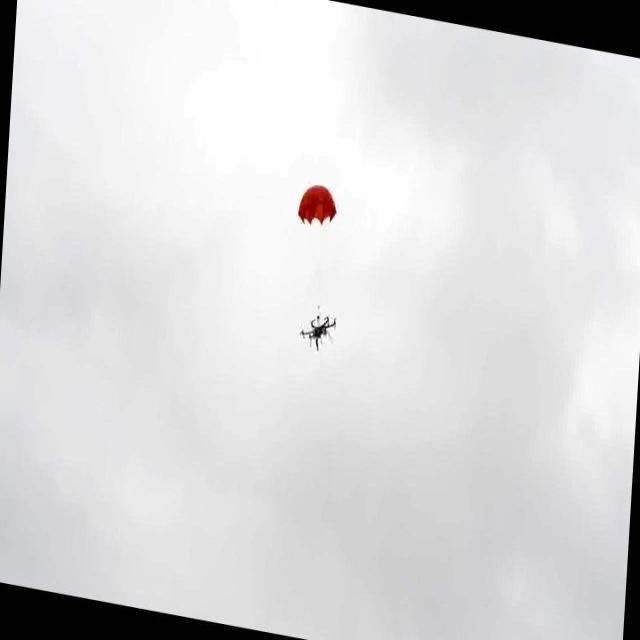drone: (296, 308, 340, 354)
